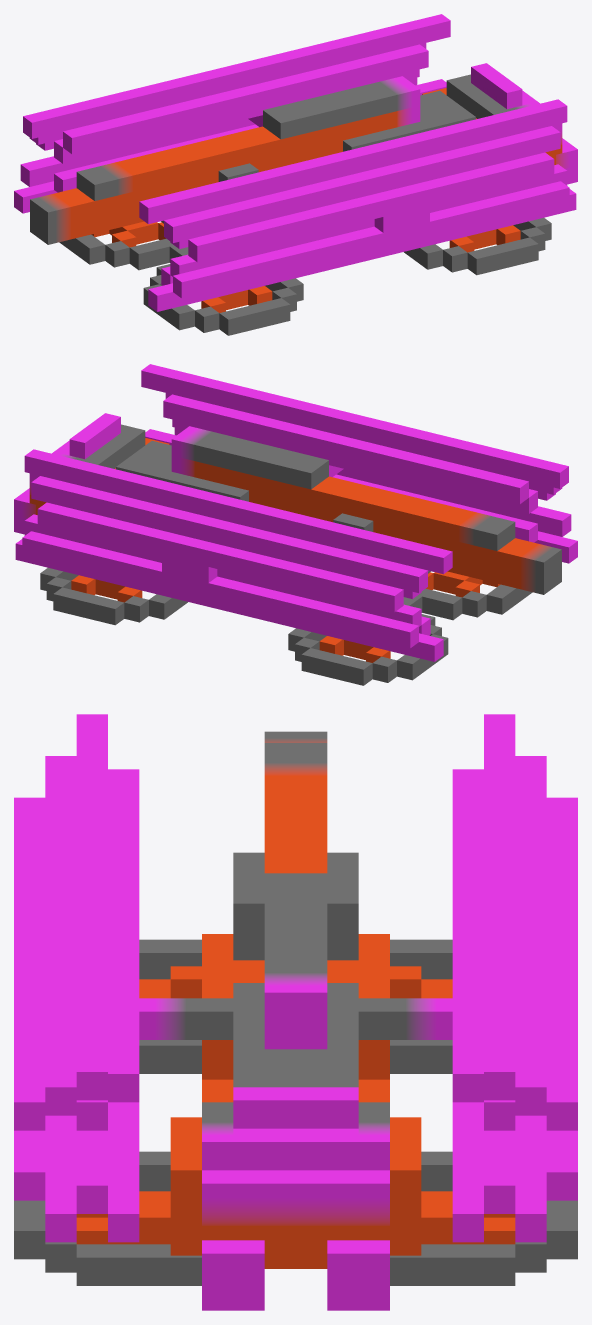
The model's file is Player_18.fbx.
The picture shows the model from 3 angles, top to bottom: view 1: azimuth 30°, elevation 25°; view 2: azimuth 150°, elevation 25°; view 3: azimuth 270°, elevation 25°; orthographic projection. The views are drawn at different scales.
Parts seen in each view (by area): view 1: Player_18; view 2: Player_18; view 3: Player_18.
Boxes of the visible parts, <box> form: Player_18: <box>14,14,577,335</box>; Player_18: <box>14,364,577,685</box>; Player_18: <box>14,714,577,1310</box>.
Bounding box in the file's own units: 33 × 8 × 18.
1 material, 1 textured.
